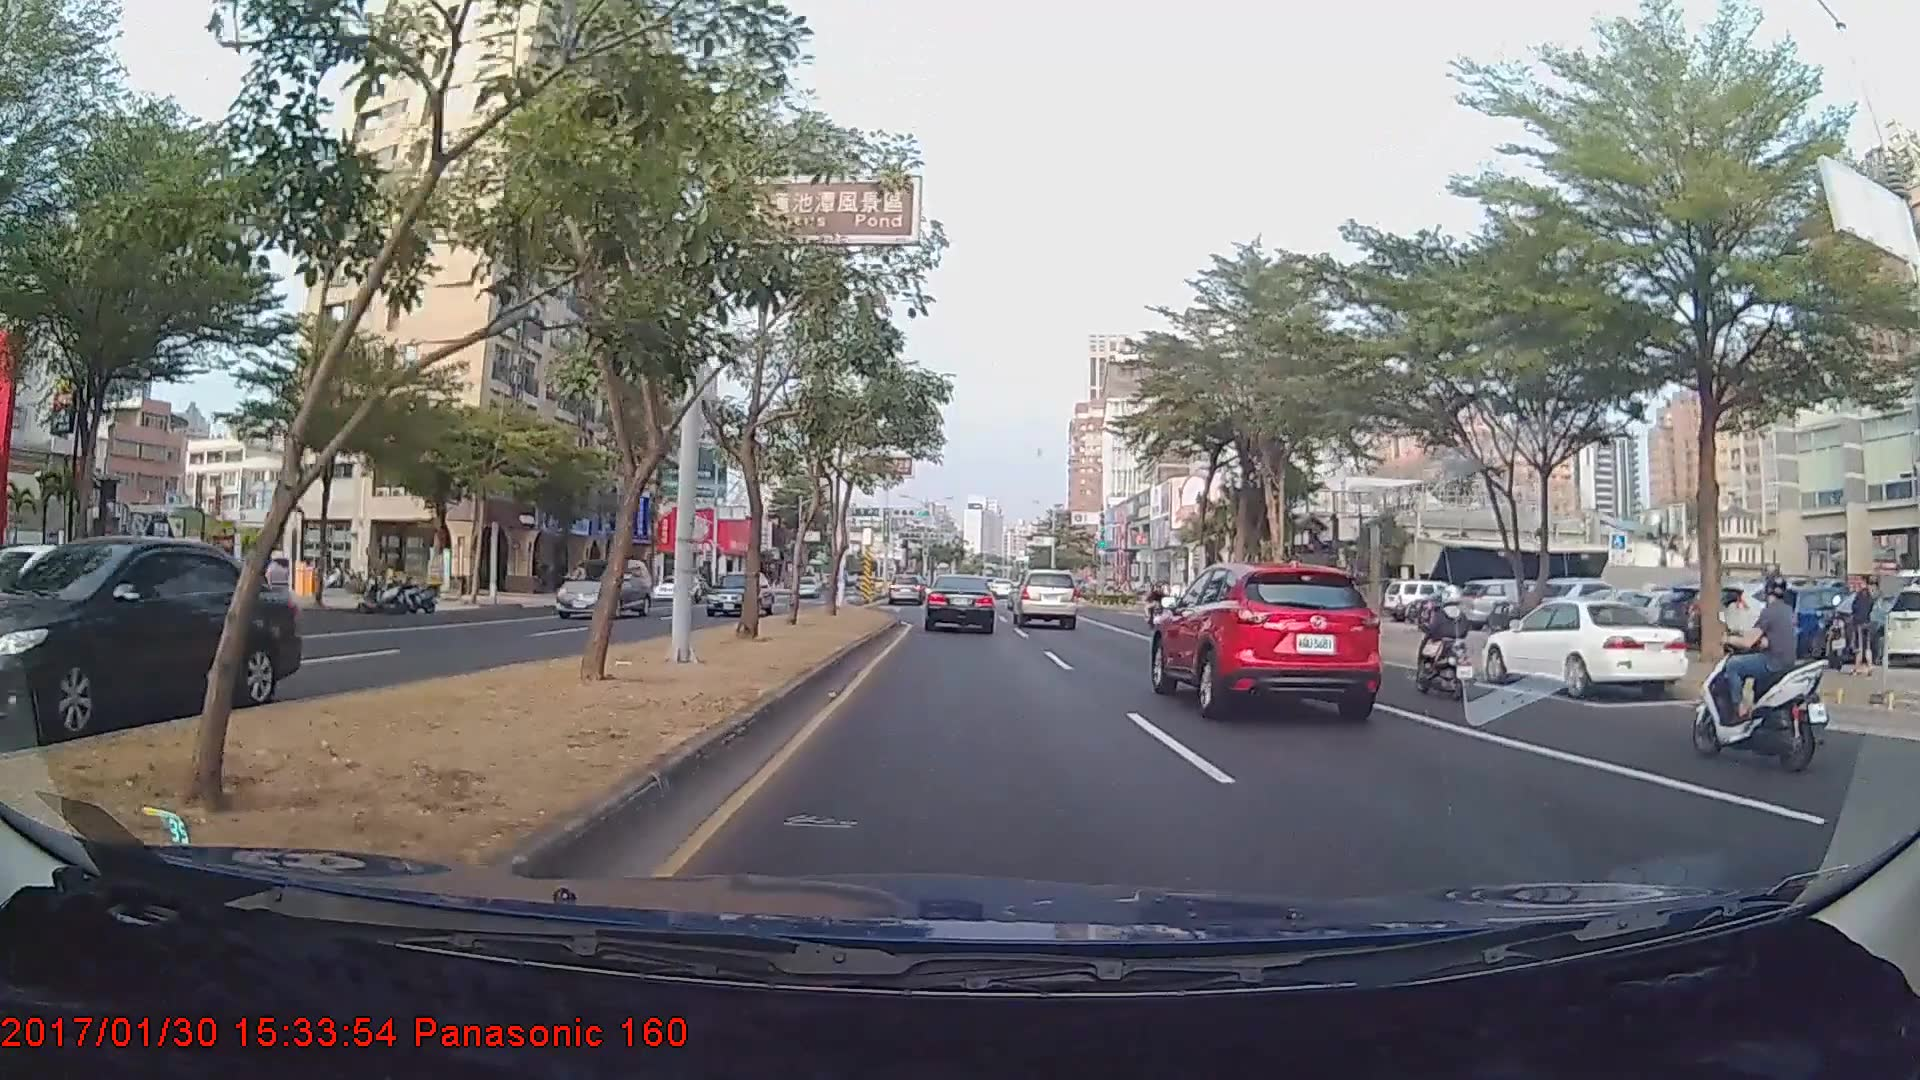pedestrian: (1848, 576, 1877, 674)
rider: (1691, 555, 1836, 777), (1402, 583, 1484, 705)
vehicle: (0, 539, 298, 736), (1148, 561, 1382, 726), (1480, 597, 1693, 699), (553, 555, 653, 619), (923, 573, 996, 634), (1011, 568, 1078, 628), (702, 567, 771, 617), (653, 573, 703, 601), (887, 573, 927, 606), (790, 576, 820, 599)
